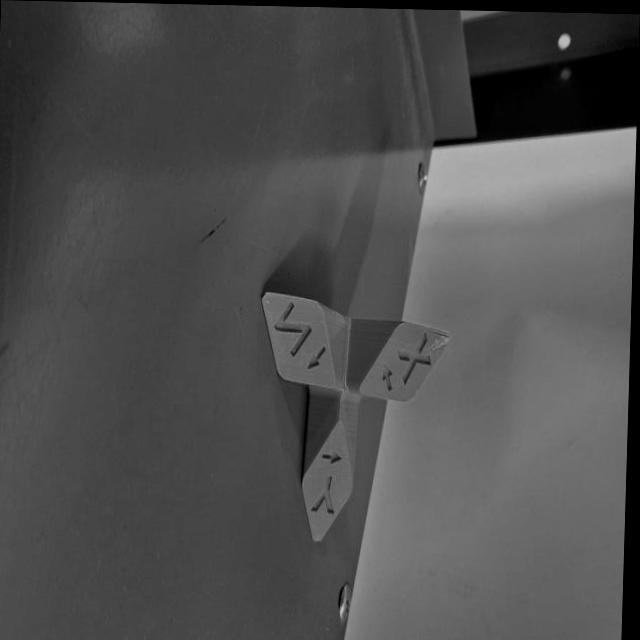eje: (248, 280, 455, 550)
